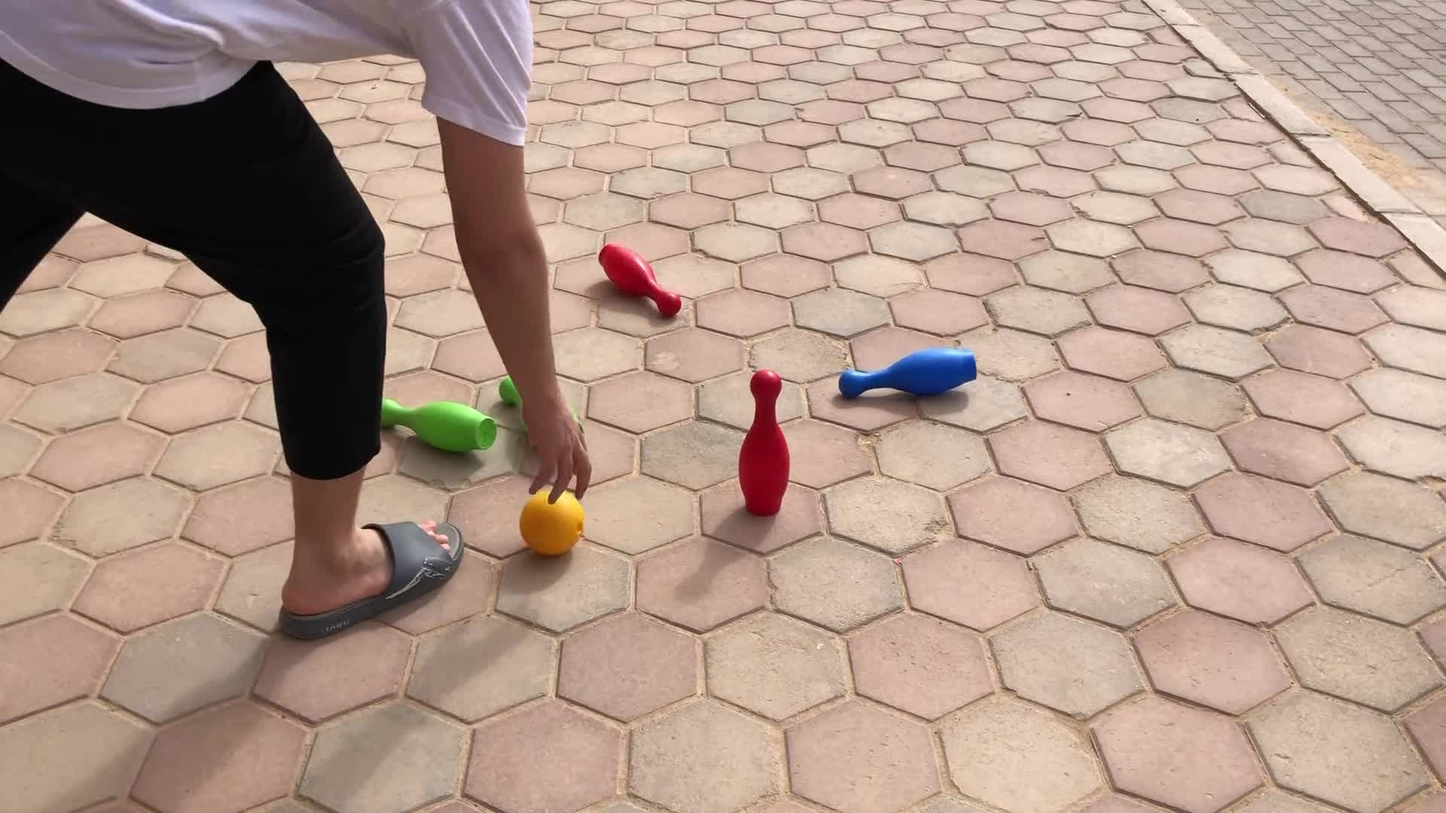pin: (739, 369, 790, 516), (377, 399, 497, 455), (840, 349, 977, 398), (604, 242, 684, 316)
